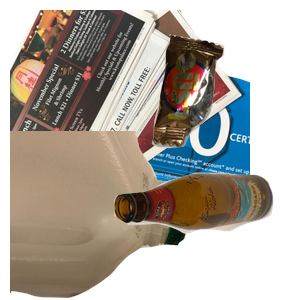glass: (111, 170, 300, 300)
paper: (10, 10, 250, 190)
plastic: (10, 131, 196, 300)
trash: (150, 32, 300, 172)
